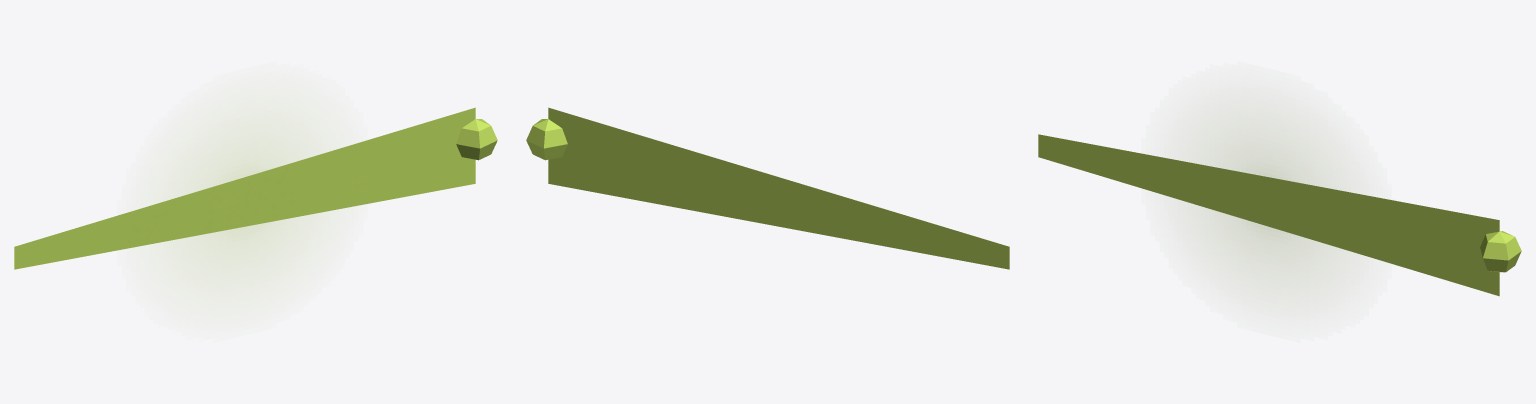
The model's file is swamp_ribbonFish.glb.
The picture shows the model from 3 angles, left to right: view 1: azimuth 30°, elevation 25°; view 2: azimuth 150°, elevation 25°; view 3: azimuth 330°, elevation 25°; orthographic projection.
Parts seen in each view (by area): view 1: n1, n4, n2; view 2: n1, n2; view 3: n1, n4, n2.
Boxes of the visible parts, bbox=[...] form: n1: bbox=[14, 107, 475, 269]; n4: bbox=[185, 131, 303, 272]; n2: bbox=[456, 119, 497, 160]; n1: bbox=[548, 107, 1009, 269]; n2: bbox=[526, 119, 567, 160]; n1: bbox=[1038, 134, 1499, 296]; n4: bbox=[1209, 131, 1332, 272]; n2: bbox=[1480, 231, 1521, 272].
Bounding box in the file's own units: 3.93 × 2.4 × 0.3043.
Materials: 3 (1 with a texture image).
